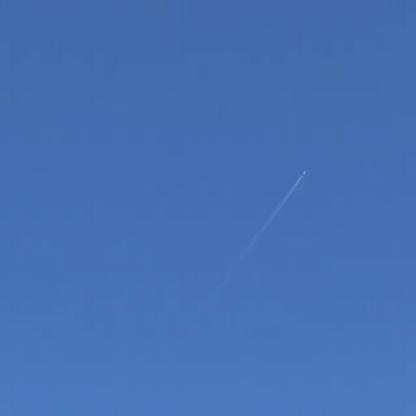CIV_Plane: (301, 159, 312, 182)
